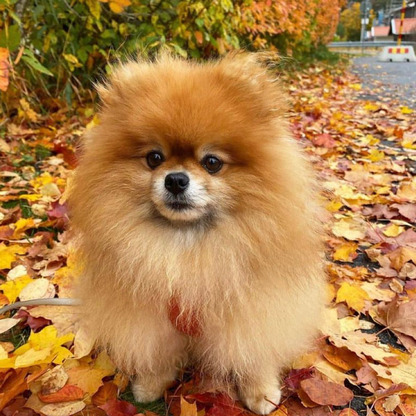Pomeranian: (43, 50, 351, 405)
